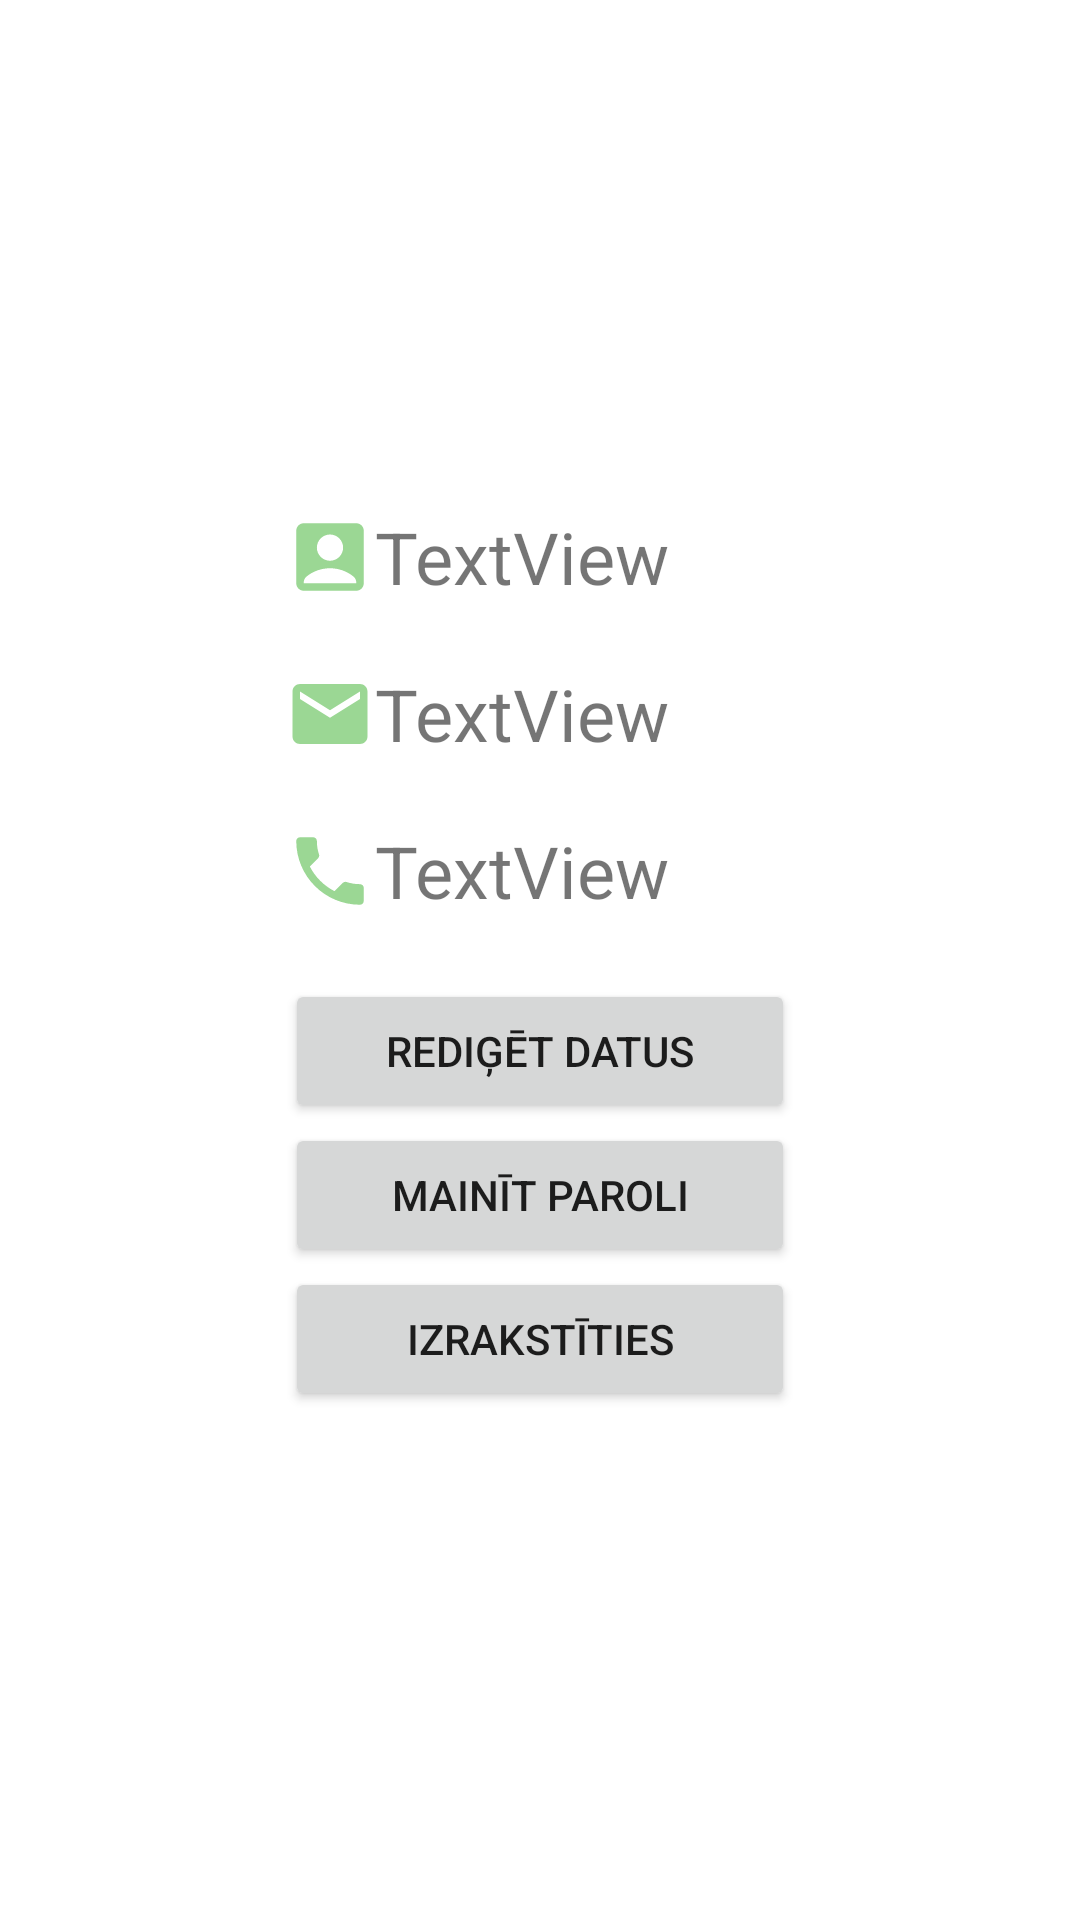

Named icons in this screenshot (1080×1920) and their bounding boxes, (x1=x1, y1=y1, x2=x2, y2=y2):
account box: (x1=296, y1=523, x2=364, y2=591)
email: (x1=292, y1=684, x2=368, y2=744)
local phone: (x1=296, y1=837, x2=364, y2=905)
